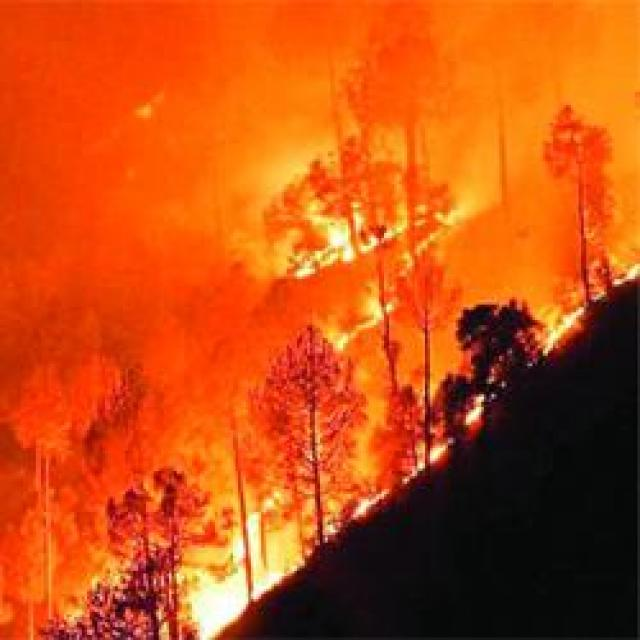fire: (162, 537, 261, 639), (298, 204, 381, 280), (564, 250, 640, 296)
smoke: (158, 396, 233, 544), (583, 94, 640, 253)
